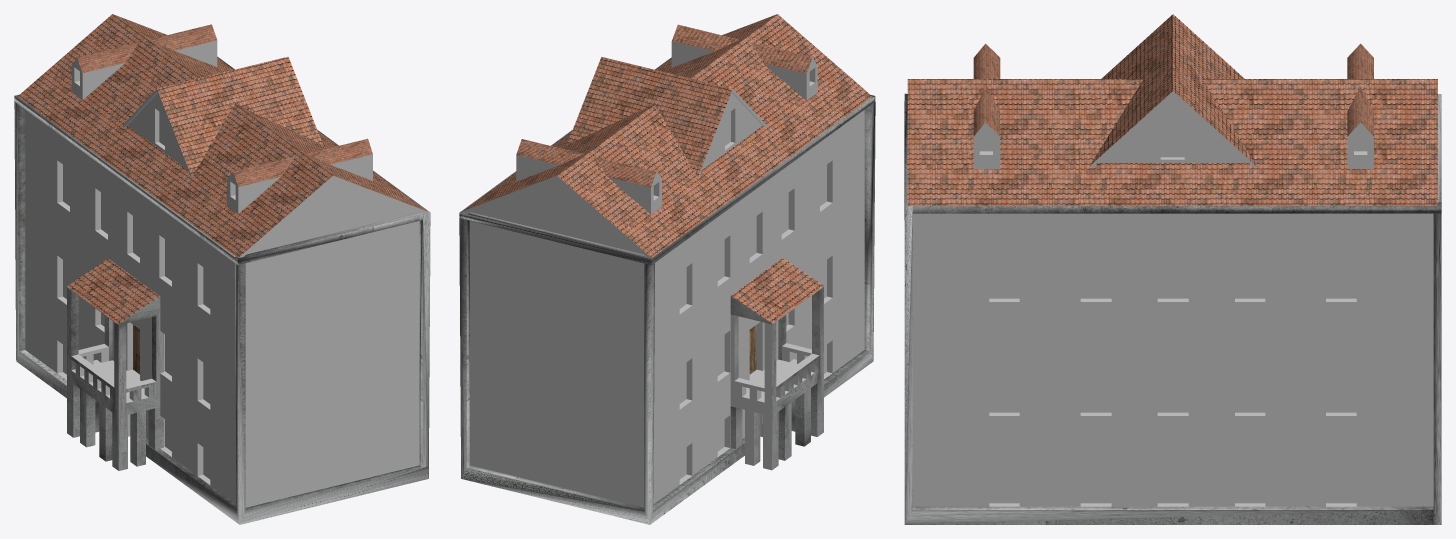
The model's file is BuildingD.fbx.
3 views of the same model, side by side, from view 1: azimuth 30°, elevation 25°; view 2: azimuth 150°, elevation 25°; view 3: azimuth 270°, elevation 25° (orthographic). The views are drawn at different scales.
Visible parts, largest first — view 1: BuildingD; view 2: BuildingD; view 3: BuildingD.
Part boxes in pixels (x1,y1,x2,y2): BuildingD: (14, 14, 430, 524); BuildingD: (459, 14, 875, 524); BuildingD: (904, 14, 1441, 524).
Bounding box in the file's own units: 395 × 579 × 675.
